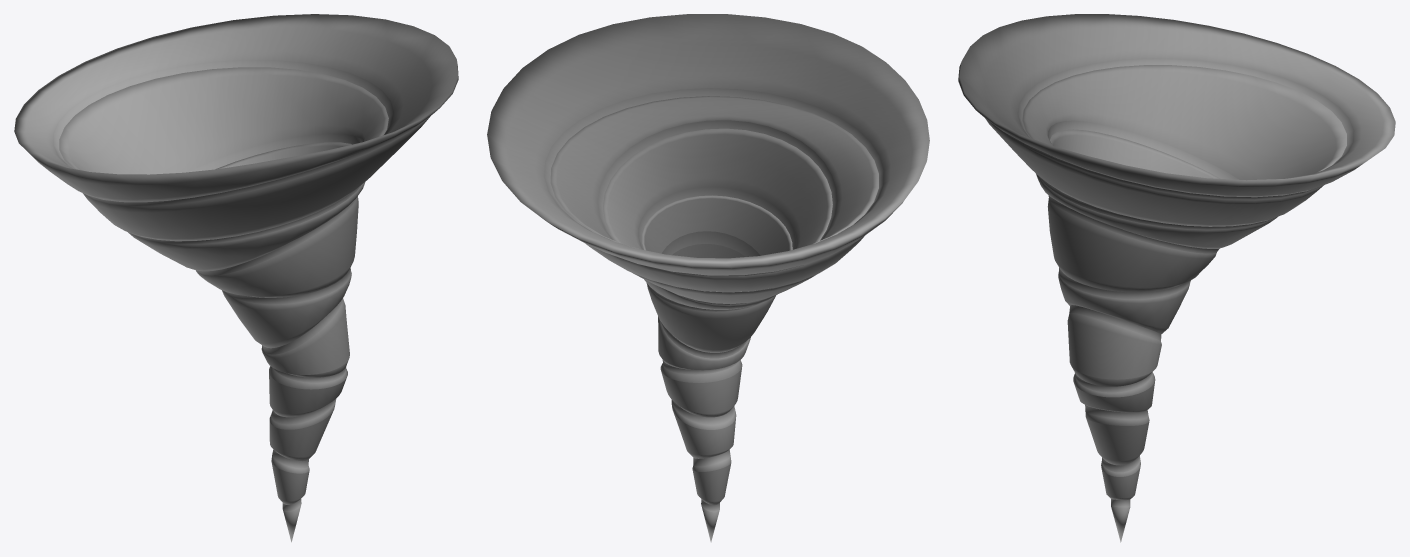
Rendered from tornado ok animated.fbx.
3 renders of one model, left to right at view 1: azimuth 30°, elevation 25°; view 2: azimuth 150°, elevation 25°; view 3: azimuth 270°, elevation 25°, orthographic.
Parts seen in each view (by area): view 1: Tornado; view 2: Tornado; view 3: Tornado.
Part boxes in pixels (x1,y1,x2,y2): Tornado: (14,14,458,542); Tornado: (487,14,929,542); Tornado: (958,14,1395,542).
Size of the model in its own units: 26822 by 30703 by 26330.
1 material, 1 textured.
